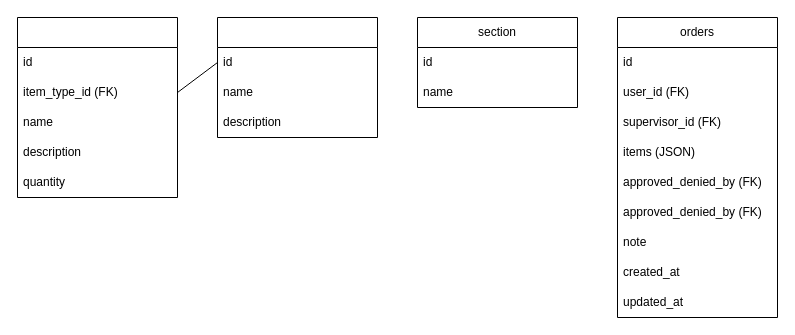
This 795x335 diagram has some shape labels left out. The shapes that lost their labels are listed below. From the top down, each one's box as (x1, y1, x2, y2) in pixels, then its label:
(216, 16, 378, 138): item_types
(16, 16, 178, 198): Items
